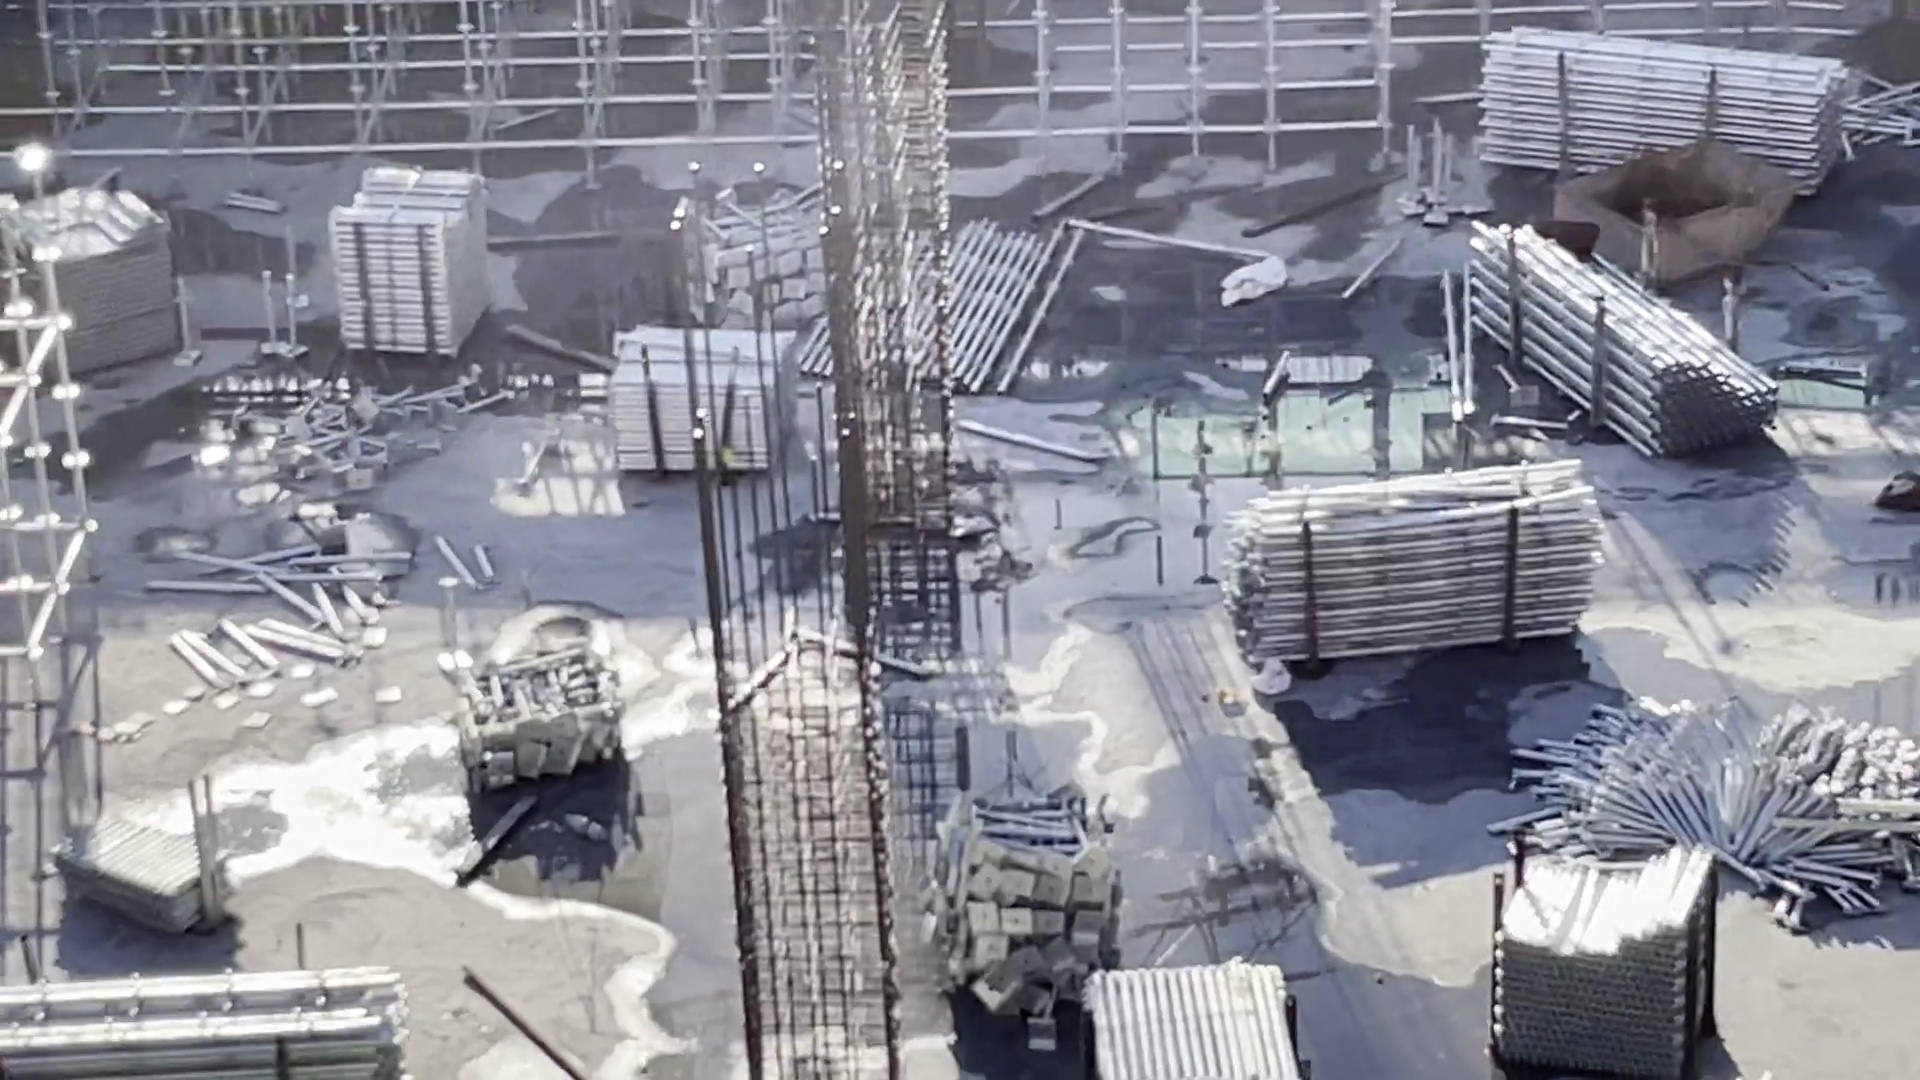hopper: (1557, 135, 1782, 295)
scaffold: (1539, 707, 1916, 927), (1468, 228, 1762, 456), (1218, 476, 1571, 662), (1473, 22, 1858, 187), (1487, 847, 1724, 1076), (3, 957, 415, 1080), (918, 795, 1112, 1004), (1069, 945, 1305, 1080), (600, 316, 789, 479), (1, 194, 181, 361), (340, 161, 480, 371), (258, 390, 483, 492), (686, 196, 858, 322), (450, 646, 634, 762), (84, 811, 249, 931)
